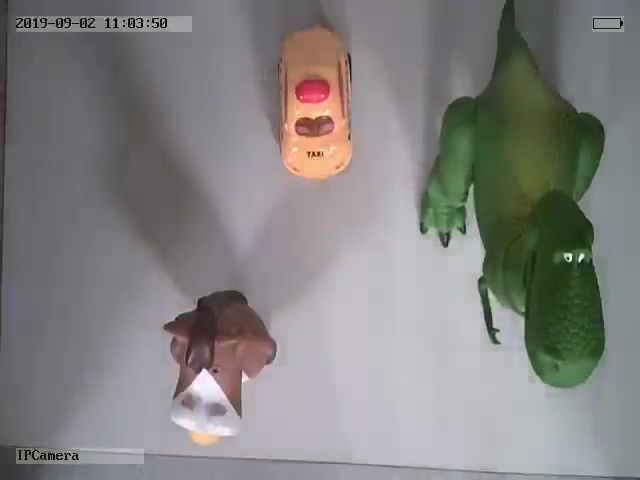car: (274, 22, 357, 180)
horse: (160, 288, 279, 448)
rex: (417, 6, 605, 389)
